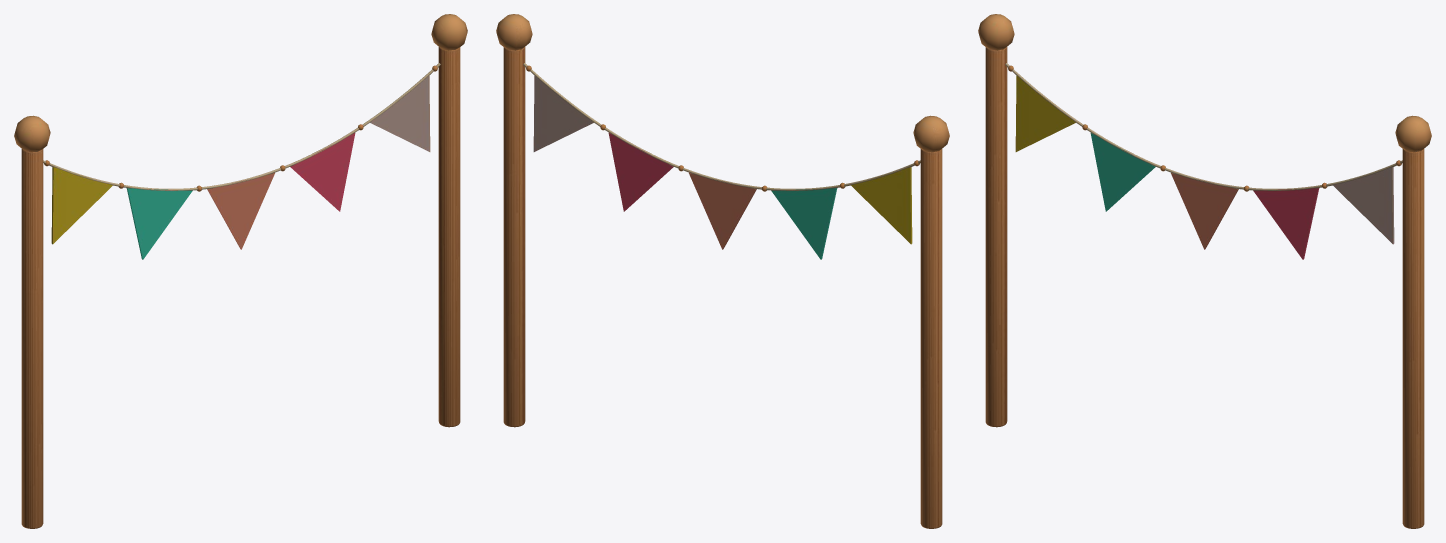
File: banner_line_3_high.glb
3 renders of one model, left to right at view 1: azimuth 30°, elevation 25°; view 2: azimuth 150°, elevation 25°; view 3: azimuth 330°, elevation 25°, orthographic.
Visible parts, largest first — view 1: banner_line_3; view 2: banner_line_3; view 3: banner_line_3.
Part boxes in pixels (x1,y1,x2,y2): banner_line_3: (14,14,467,528); banner_line_3: (496,14,949,528); banner_line_3: (978,14,1431,528).
Size of the model in its own units: 2.66 by 2.31 by 0.192.
Materials: 1 (1 with a texture image).
